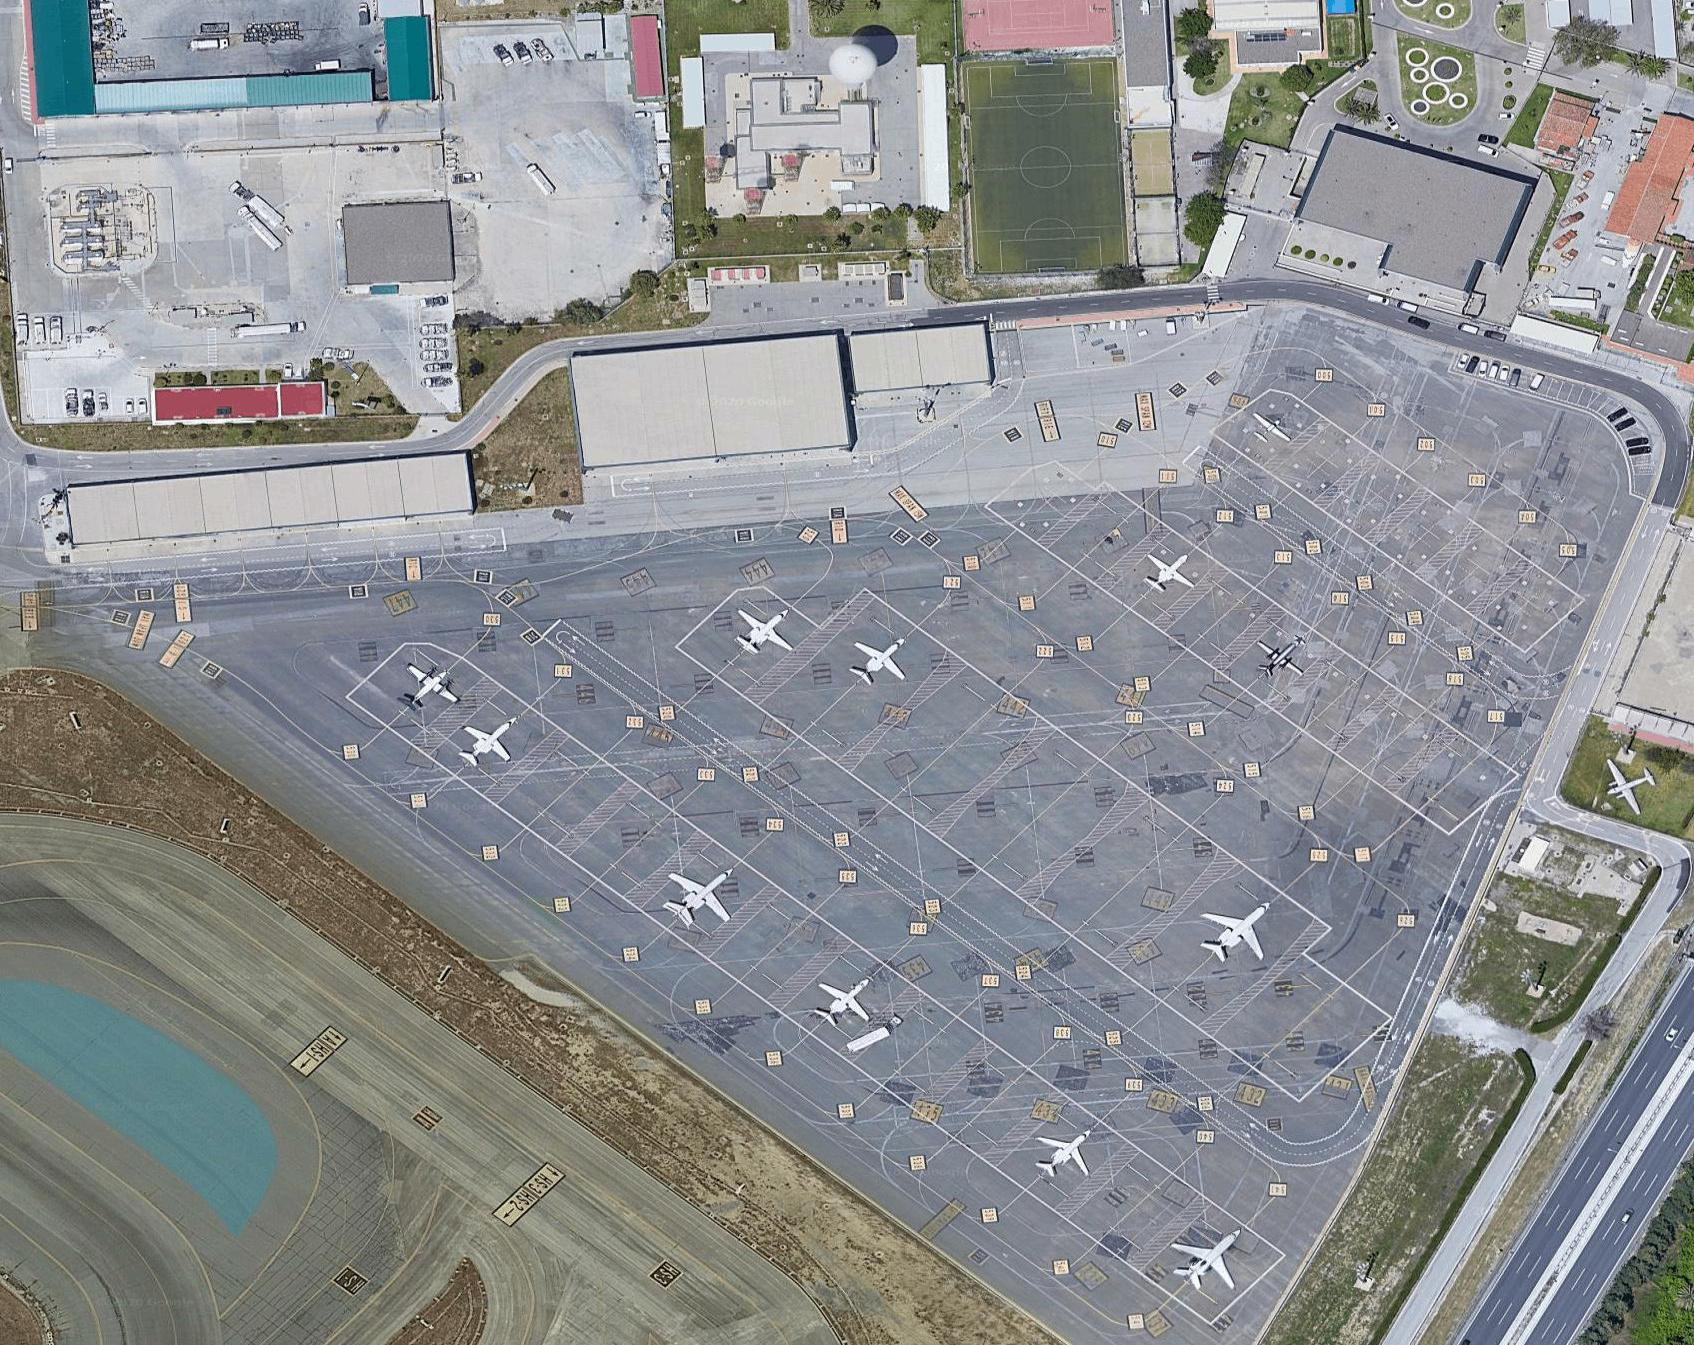plane: (1156, 1207, 1264, 1313), (1185, 883, 1281, 985), (650, 844, 747, 943), (1585, 739, 1673, 832), (837, 622, 920, 700), (448, 703, 527, 783), (1024, 1114, 1103, 1192), (723, 598, 802, 670), (395, 648, 467, 718), (808, 965, 879, 1036), (1250, 627, 1314, 692), (1136, 540, 1200, 602)
soccer-ball-field: (968, 63, 1125, 264)
